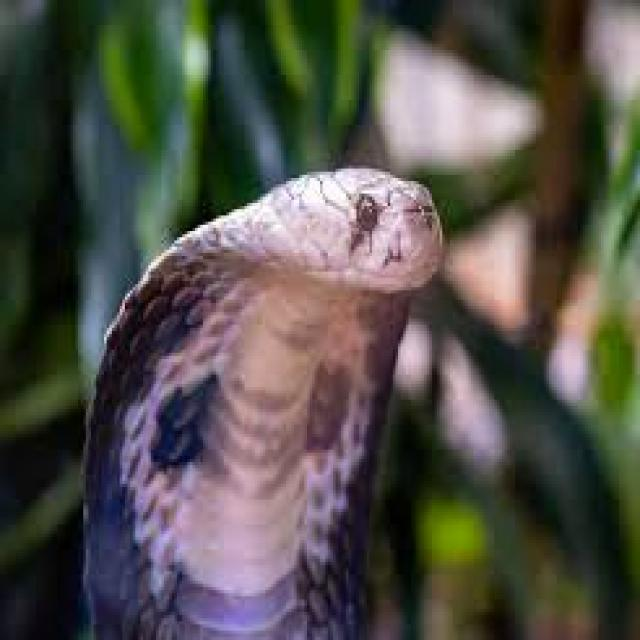snake: (86, 169, 442, 637)
